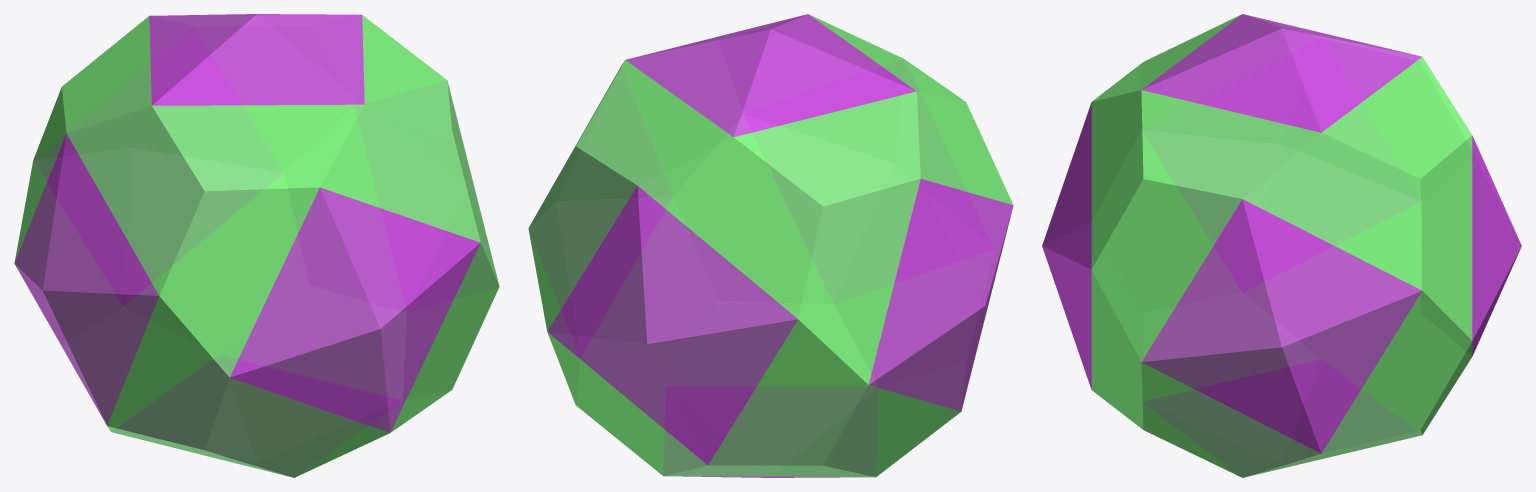
File: BiscribedOrthokisPropelloCube.obj
The picture shows the model from 3 angles, left to right: view 1: azimuth 30°, elevation 25°; view 2: azimuth 150°, elevation 25°; view 3: azimuth 270°, elevation 25°; orthographic projection. The views are drawn at different scales.
Size of the model in its own units: 2 by 2 by 2.
